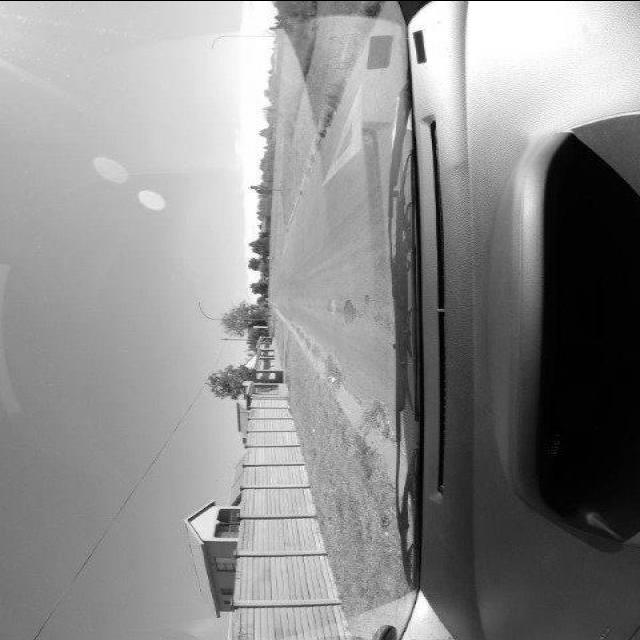lubang: (338, 298, 360, 328), (324, 294, 340, 316)
